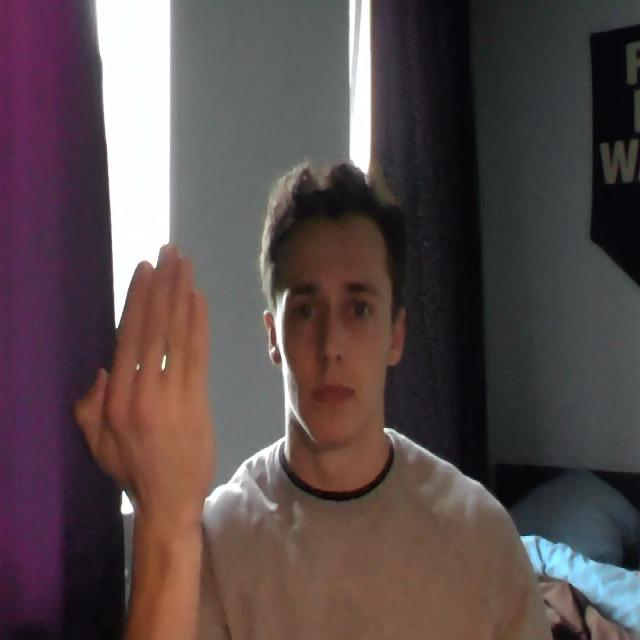forward: (70, 237, 224, 495)
